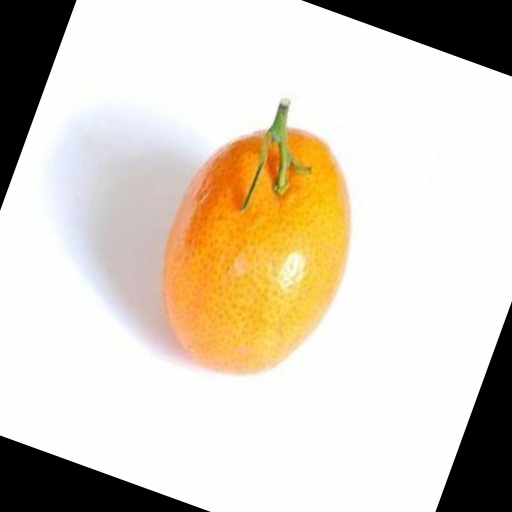fruit: (11, 97, 316, 491)
